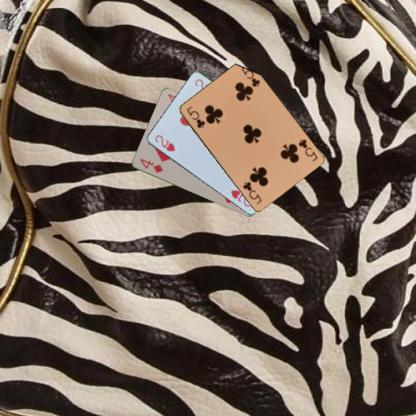2h: (152, 132, 176, 152)
4d: (137, 156, 164, 174)
5c: (295, 136, 319, 163), (184, 104, 206, 130)
